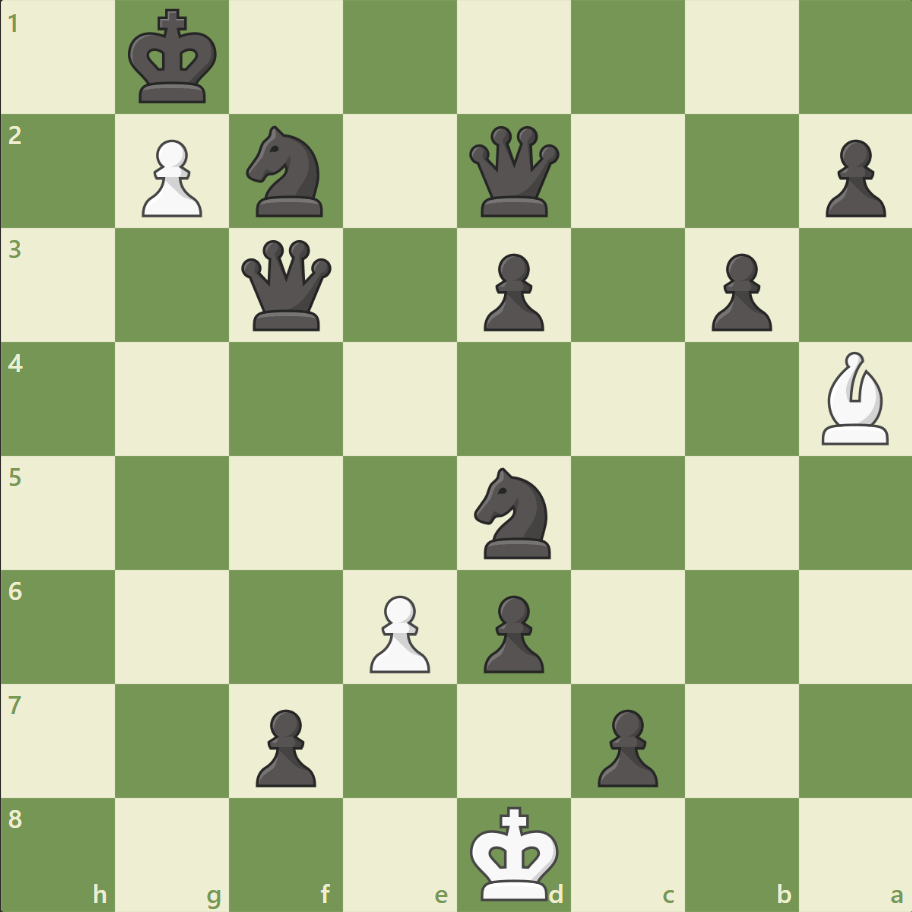B: (812, 347, 896, 449)
K: (465, 798, 565, 906)
P: (133, 132, 208, 223), (361, 586, 435, 677)
k: (124, 4, 224, 112)
n: (465, 461, 562, 564), (238, 121, 335, 223)
p: (247, 700, 322, 791), (474, 586, 549, 677), (701, 246, 776, 337), (474, 246, 549, 337), (588, 700, 662, 791), (815, 132, 889, 223)
q: (464, 122, 563, 222), (237, 236, 336, 335)
